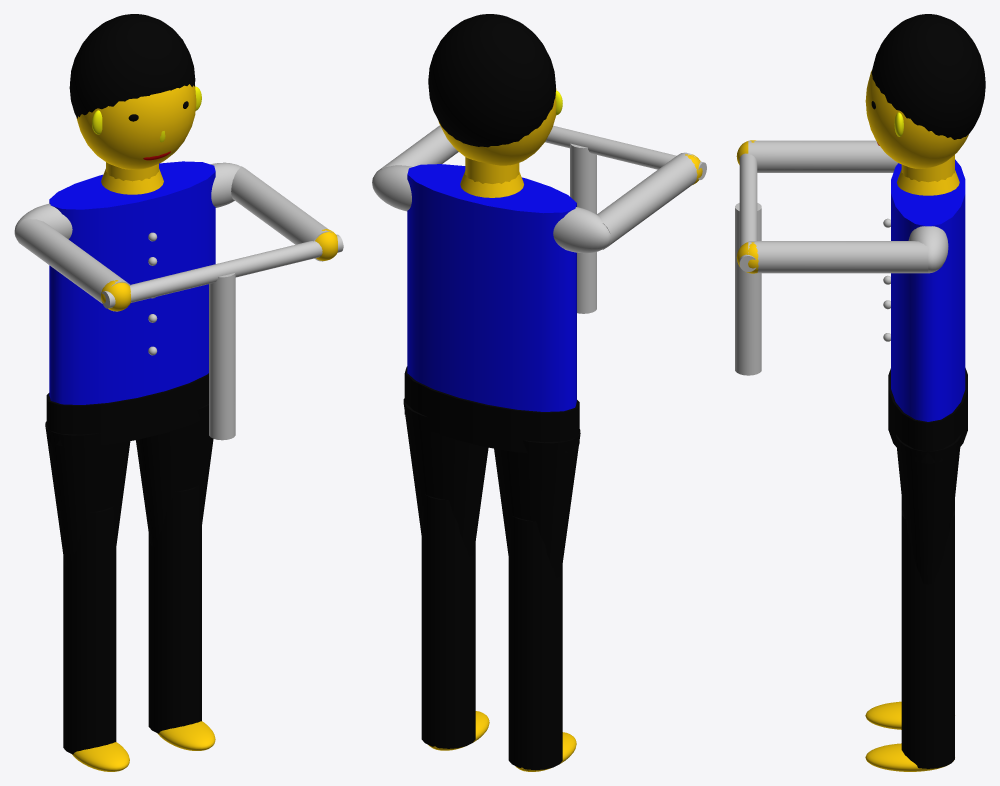
Rendered from nguoilaitau.fbx.
3 renders of one model, left to right at view 1: azimuth 30°, elevation 25°; view 2: azimuth 150°, elevation 25°; view 3: azimuth 270°, elevation 25°, orthographic.
Parts seen in each view (by area): view 1: VCyl002, VCyl004, VCyl005, VSph001, VCone002, VSph002, VCyl003, VCone003, VCyl008, VCyl009, VCyl007, VCyl006 (+7 smaller); view 2: VCyl002, VSph001, VCyl005, VCyl004, VCone002, VCyl003, VCone003, VCyl007, VCyl008, VCyl009, VSph002, VSph018 (+4 smaller); view 3: VCyl002, VCyl005, VSph001, VCone003, VCyl006, VCyl007, VSph002, VCyl008, VCyl003, VCyl009, VSph016, VSph015 (+3 smaller).
Part boxes in pixels (x1,y1,x2,y2): VCyl002: (49,161,215,404); VCyl004: (63,506,116,754); VCyl005: (148,486,201,733); VSph001: (69,14,195,118); VCone002: (45,421,130,567); VSph002: (76,84,196,169); VCyl003: (46,373,208,445); VCone003: (136,404,213,546); VCyl008: (209,273,235,440); VCyl009: (101,234,343,308); VCyl007: (16,219,130,311); VCyl006: (231,166,332,261); VCyl002: (407,164,576,411); VSph001: (428,14,555,147); VCyl005: (421,494,475,748); VCyl004: (508,516,562,770); VCone002: (494,429,580,577); VCyl003: (404,366,579,453); VCone003: (403,398,488,556); VCyl007: (597,152,697,249); VCyl008: (570,143,596,313); VCyl009: (545,125,706,179); VSph002: (438,88,556,165); VSph018: (553,207,610,253); VCyl002: (891,159,965,421); VCyl005: (901,510,954,768); VSph001: (871,14,985,139); VCone003: (896,434,961,584); VCyl006: (748,241,928,273); VCyl007: (748,140,897,172); VSph002: (865,70,968,168); VCyl008: (735,203,761,375); VCyl003: (888,368,967,463); VCyl009: (739,153,757,271); VSph016: (908,226,948,273); VSph015: (865,743,953,771).
Bounding box in the file's own units: 3.02 × 8.92 × 2.79.
